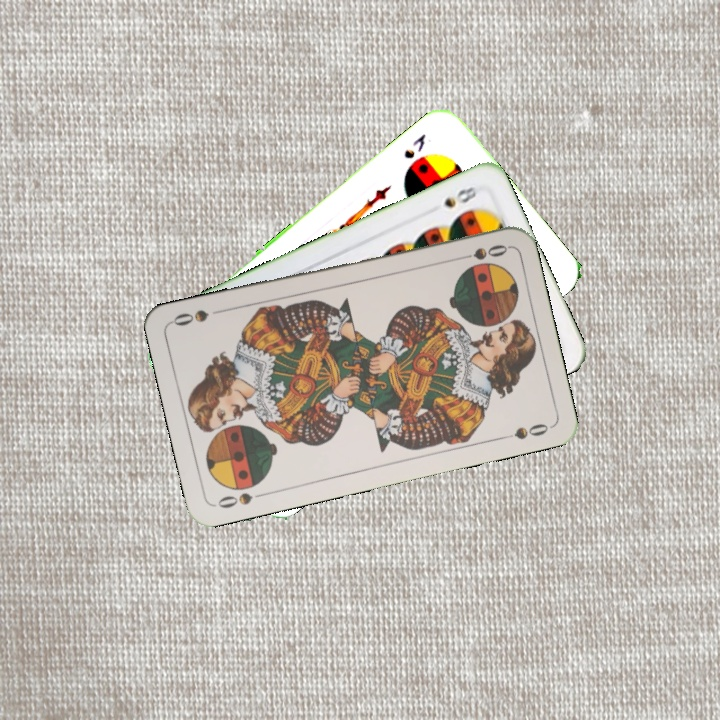S8: (439, 182, 479, 211)
SK: (399, 129, 429, 162)
SO: (452, 240, 510, 264), (211, 488, 270, 511)
